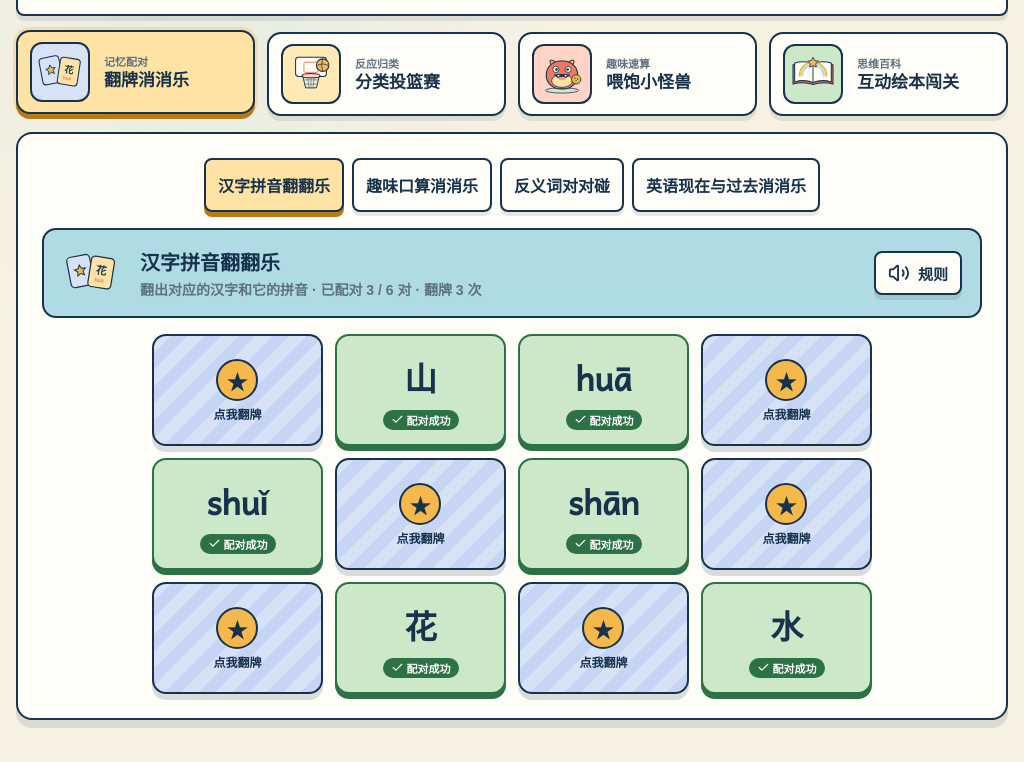
Test: ArcadeScreen (小芽游乐园四大互动小游戏) › renders Memory Flip and lets a child match all pairs to win
This screenshot has width=1024, height=762.
Earlier steps of the test are not shown.
(page scrolled)
Click the 4th button "★ 点我翻牌" at (786, 514), box [701,458,872,570]
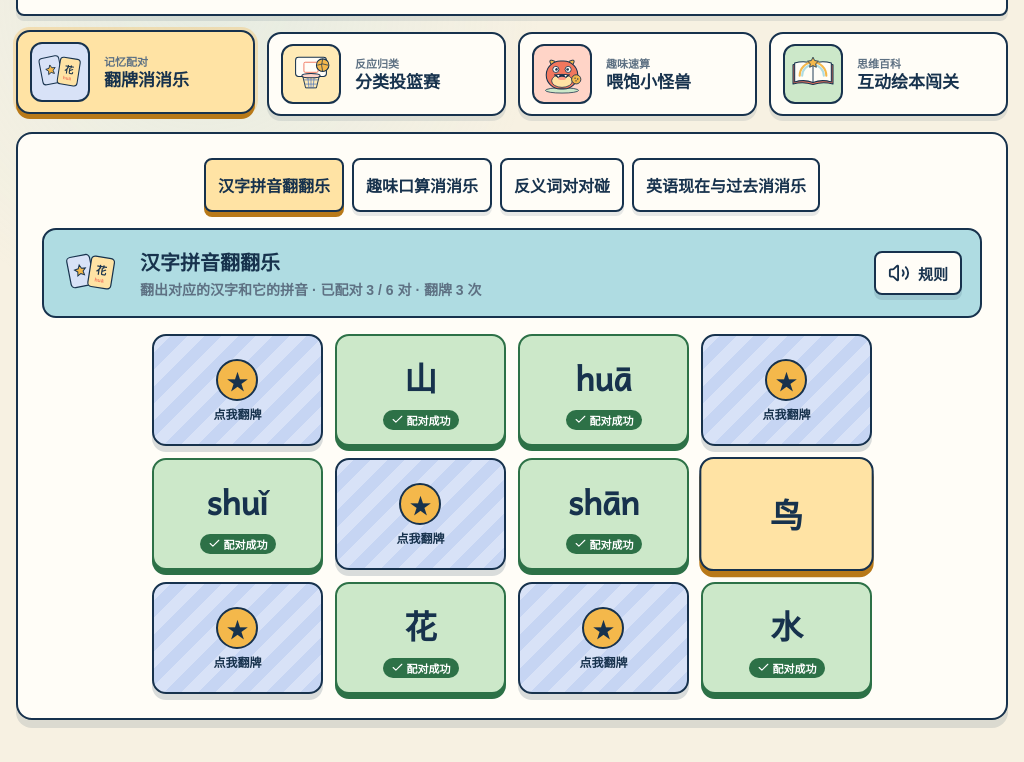
Click the 1st button "★ 点我翻牌" at (238, 390), box [152,334,323,446]
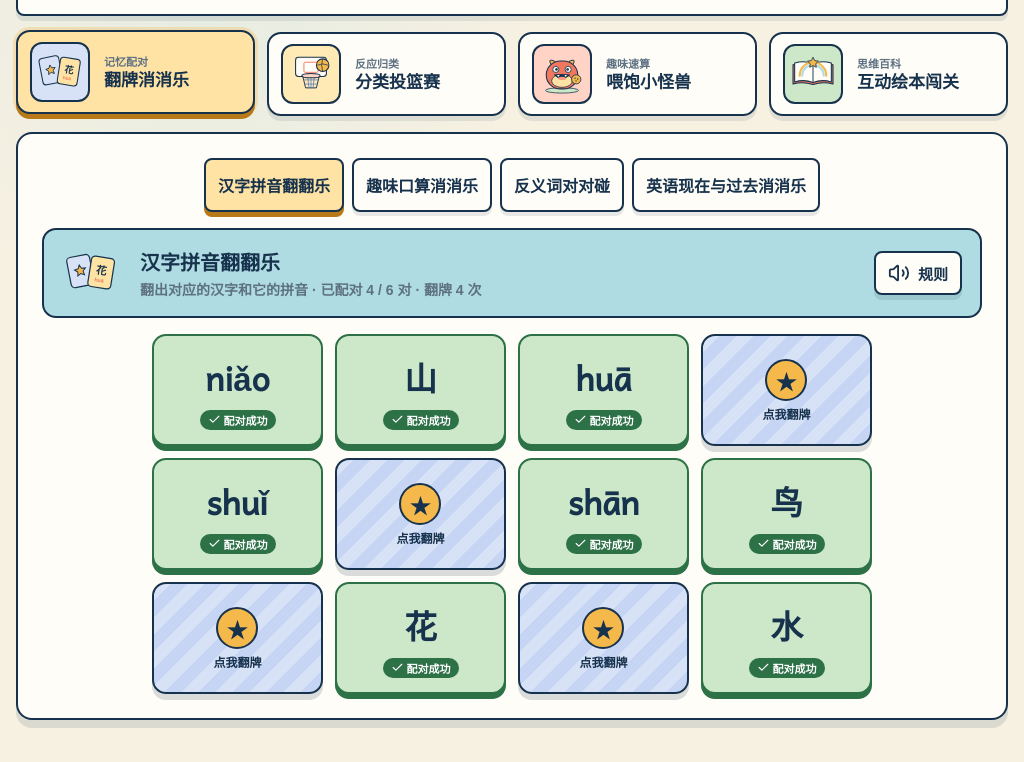
Click the 2nd button "★ 点我翻牌" at (420, 514), box [335,458,506,570]
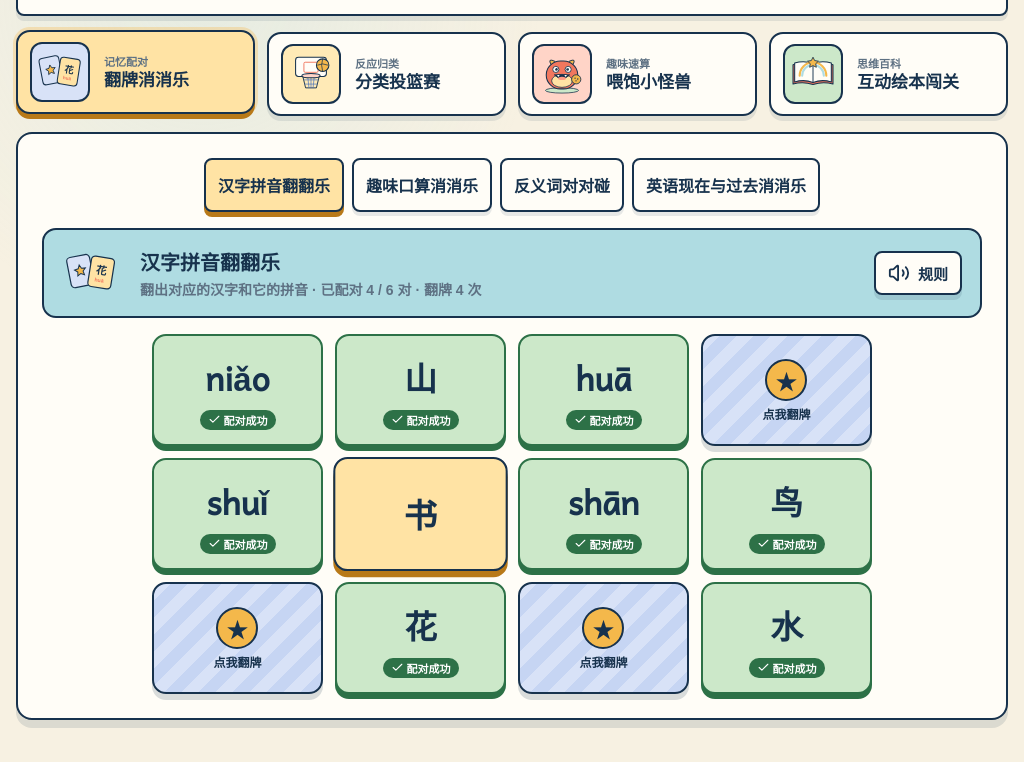
Click the 3rd button "★ 点我翻牌" at (604, 638), box [518,582,689,694]
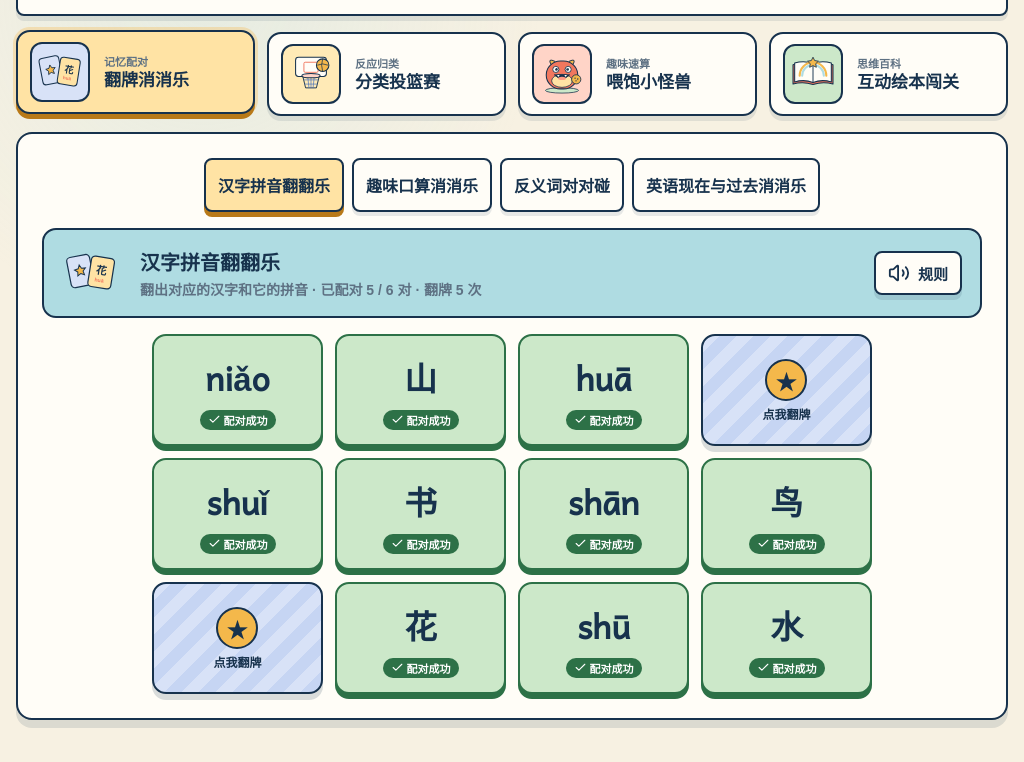
Click the 1st button "★ 点我翻牌" at (786, 390), box [701,334,872,446]
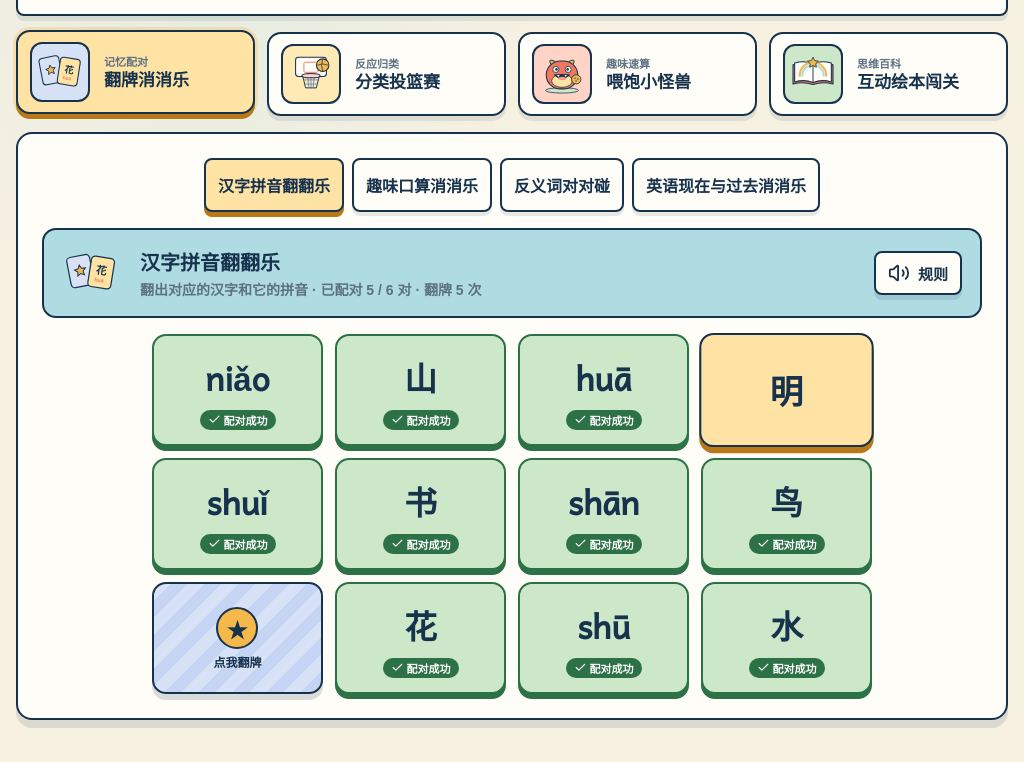
Click the button "★ 点我翻牌" at (238, 638), box [152,582,323,694]
(page scrolled)
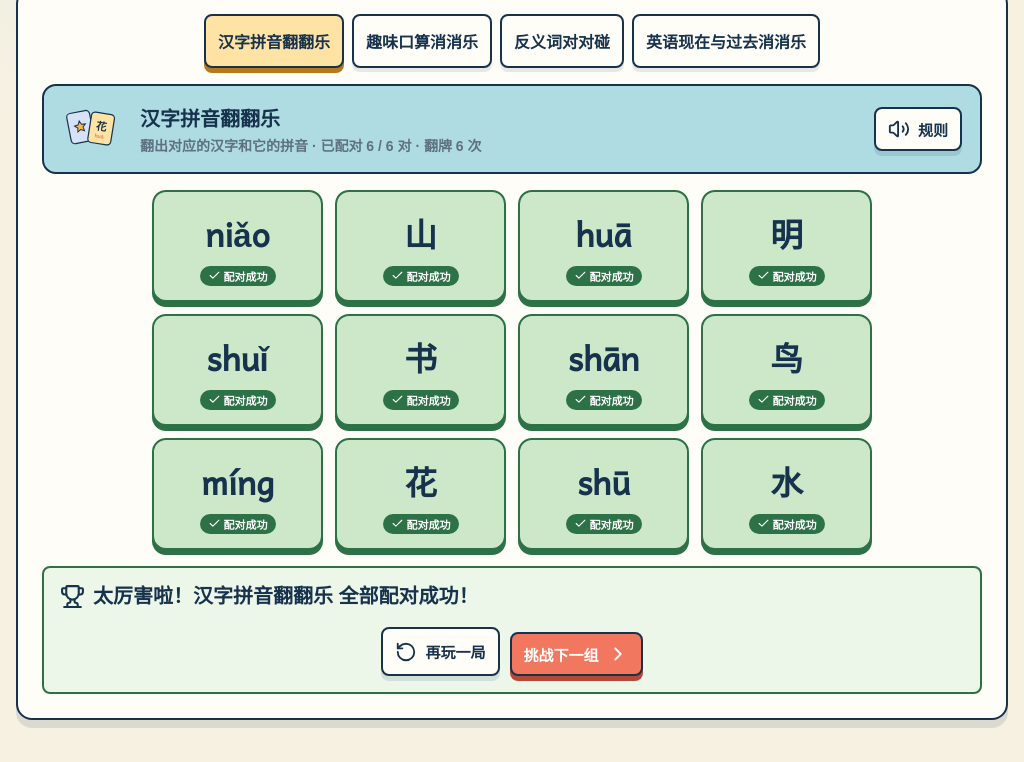
Result: the element with test id "memory-flip-victory" is shown at [42,566,982,694]
